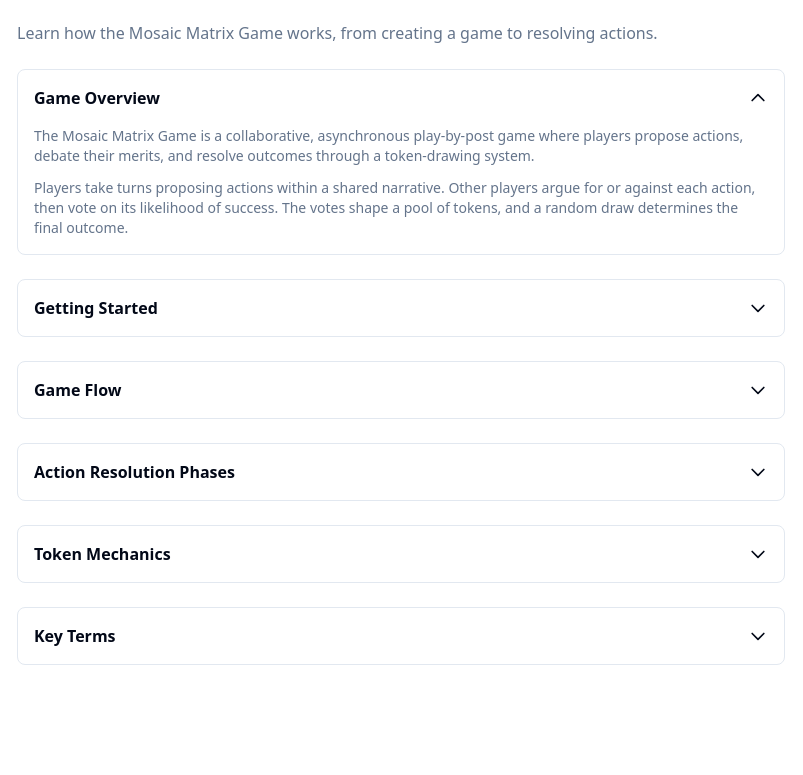
Test case: Help Page › should display all action resolution phases when section is opened
The width and height of the screenshot is (803, 775).
Click the button "Action Resolution Phases" at (134, 472), box [18, 444, 784, 500]
(page scrolled)
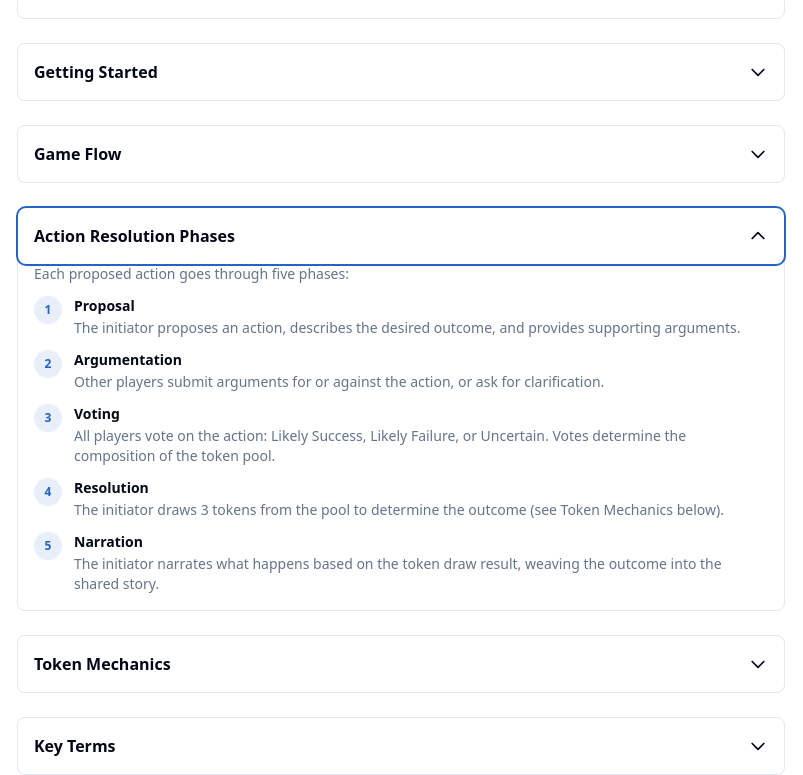
expect the text "Proposal" is shown: met, box [74, 296, 135, 315]
expect the text "Argumentation" is shown: met, box [74, 350, 182, 369]
expect the text "Voting" is shown: met, box [74, 404, 120, 423]
